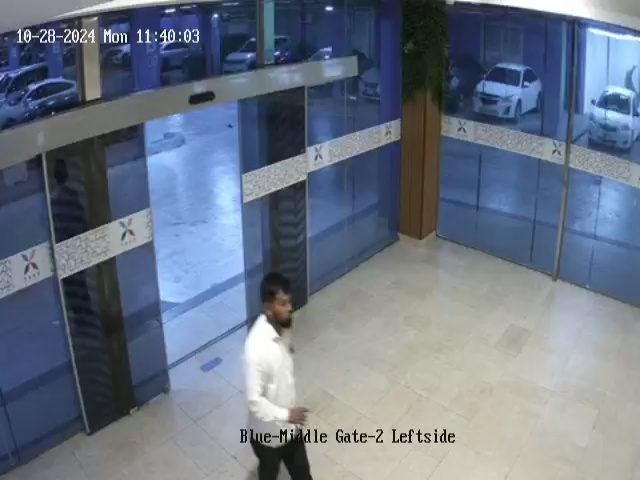male: (243, 271, 317, 480)
